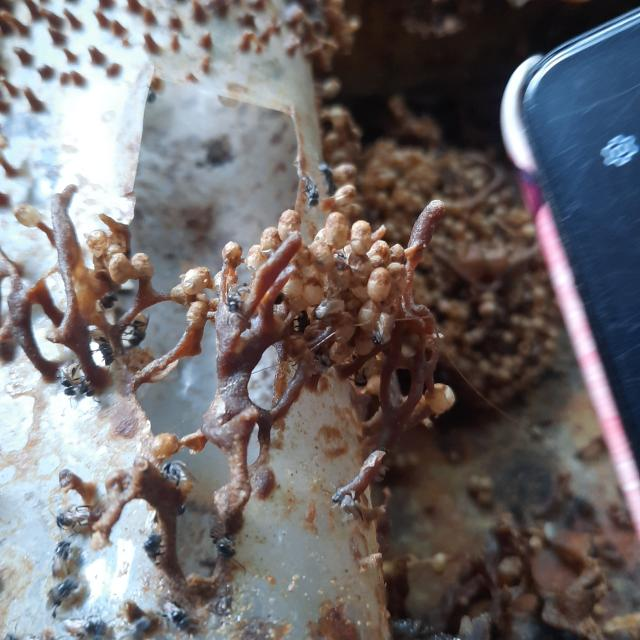honeybee: (90, 324, 121, 369), (159, 596, 193, 634), (208, 521, 238, 563), (72, 360, 99, 406), (50, 504, 96, 528), (68, 614, 111, 638), (45, 577, 77, 609), (160, 458, 194, 488), (330, 487, 357, 524), (126, 309, 153, 346), (295, 173, 323, 208), (52, 536, 74, 580), (372, 312, 395, 350), (119, 614, 152, 640), (92, 288, 120, 316), (145, 529, 163, 568), (60, 364, 76, 400), (141, 84, 162, 110), (226, 283, 242, 311)
